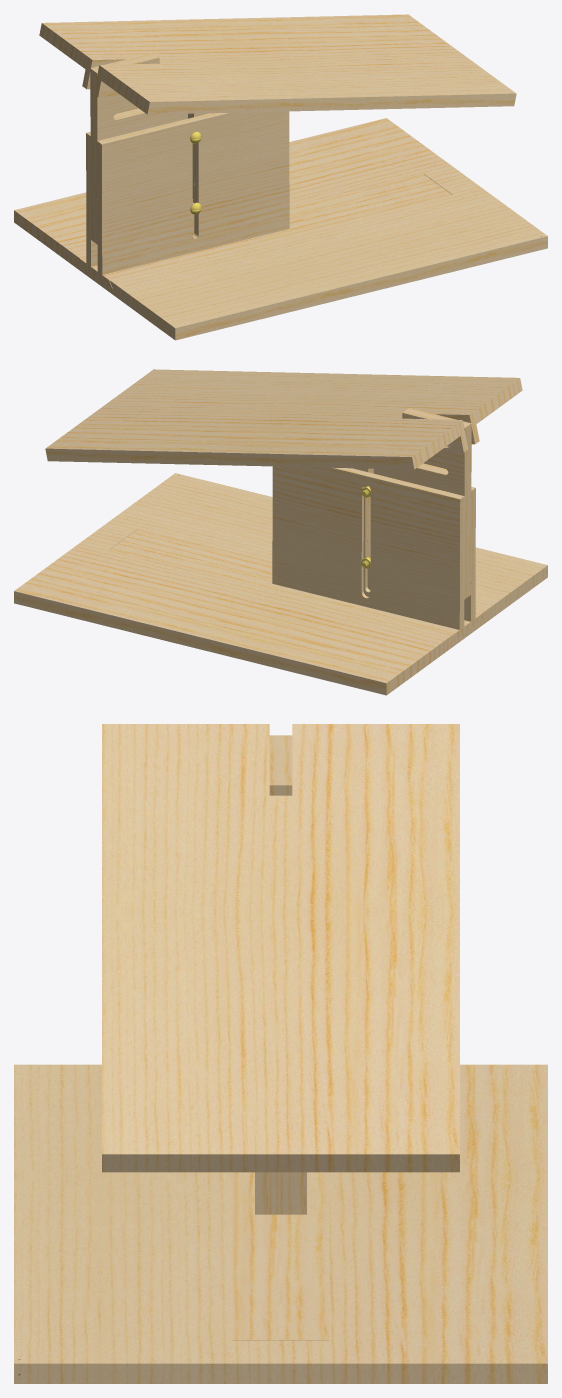
File: mri-structure.glb
The picture shows the model from 3 angles, top to bottom: view 1: azimuth 30°, elevation 25°; view 2: azimuth 150°, elevation 25°; view 3: azimuth 270°, elevation 25°; orthographic projection. The views are drawn at different scales.
Visible parts, largest first — view 1: base_stroke_V2-1, Robot_Platform_V2-1, Slider_stroke_V2-1, Adjustable_Panel_V2-1; view 2: base_stroke_V2-1, Robot_Platform_V2-1, Slider_stroke_V2-1, Adjustable_Panel_V2-1; view 3: Robot_Platform_V2-1, base_stroke_V2-1, Slider_stroke_V2-1, Adjustable_Panel_V2-1.
Boxes of the visible parts, left/top/right/bottom form: base_stroke_V2-1: left=14, top=118, right=547, bottom=340; Robot_Platform_V2-1: left=39, top=14, right=516, bottom=114; Slider_stroke_V2-1: left=76, top=111, right=451, bottom=288; Adjustable_Panel_V2-1: left=90, top=53, right=208, bottom=244; base_stroke_V2-1: left=14, top=473, right=547, bottom=695; Robot_Platform_V2-1: left=45, top=369, right=522, bottom=469; Slider_stroke_V2-1: left=110, top=466, right=485, bottom=643; Adjustable_Panel_V2-1: left=353, top=408, right=471, bottom=599; Robot_Platform_V2-1: left=102, top=724, right=459, bottom=1172; base_stroke_V2-1: left=14, top=1064, right=547, bottom=1383; Slider_stroke_V2-1: left=232, top=1172, right=329, bottom=1340; Adjustable_Panel_V2-1: left=269, top=735, right=292, bottom=795.
Size of the model in its own units: 0.6133 by 0.3399 by 0.4545.
Materials: 6 (4 with a texture image).
